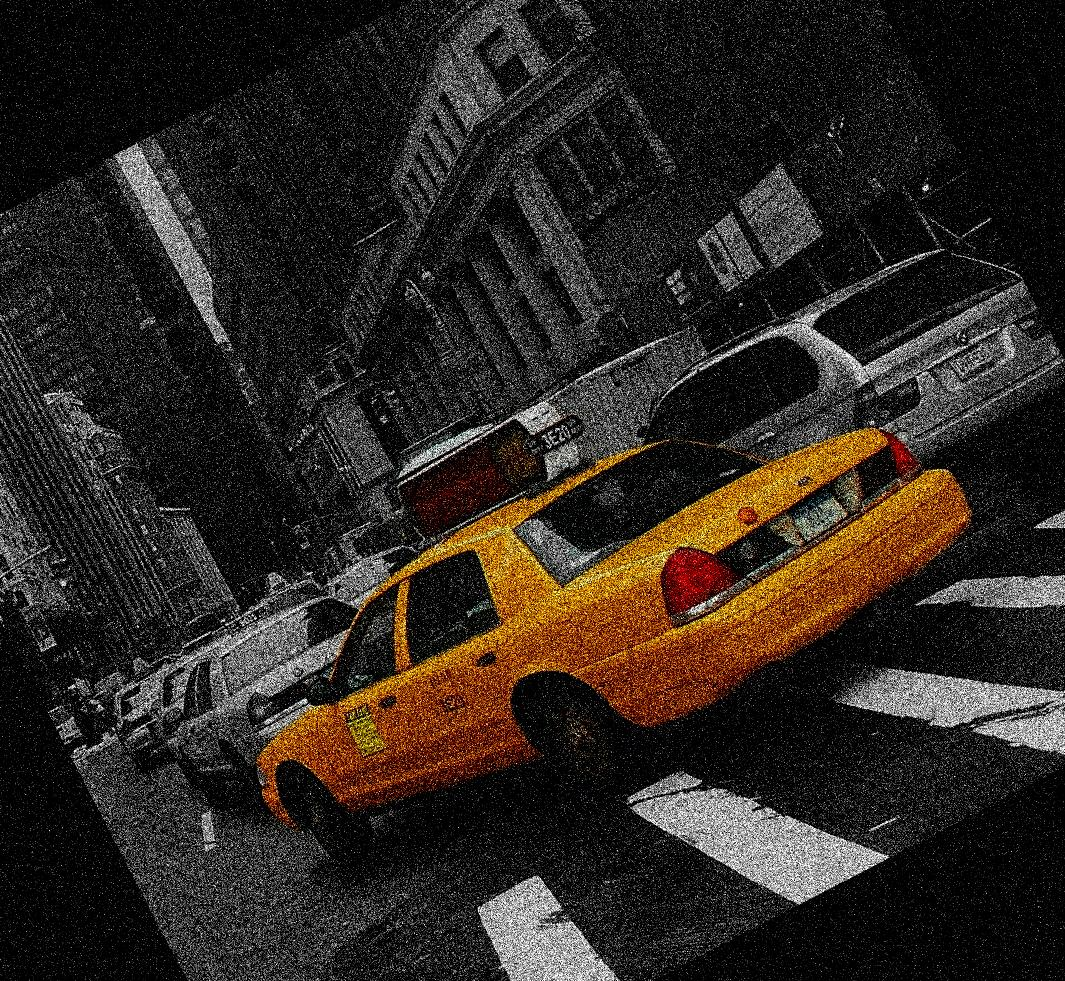taxi: (229, 396, 975, 862)
